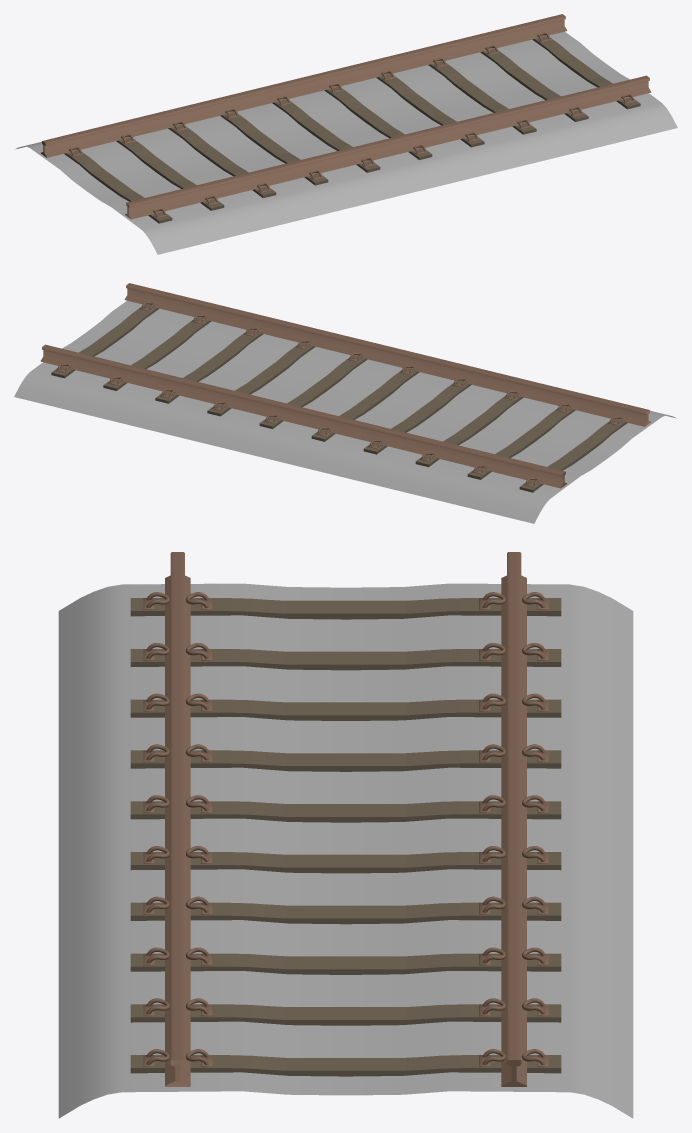
The model's file is Rail.fbx.
3 renders of one model, top to bottom at view 1: azimuth 30°, elevation 25°; view 2: azimuth 150°, elevation 25°; view 3: azimuth 270°, elevation 25°, orthographic. The views are drawn at different scales.
Visible parts, largest first — view 1: Cube; view 2: Cube; view 3: Cube.
Boxes of the visible parts, x1,y1,x2,y2 form: Cube: (15, 14, 677, 254); Cube: (14, 283, 676, 523); Cube: (58, 552, 633, 1118).
Bounding box in the file's own units: 500 × 27.07 × 239.
